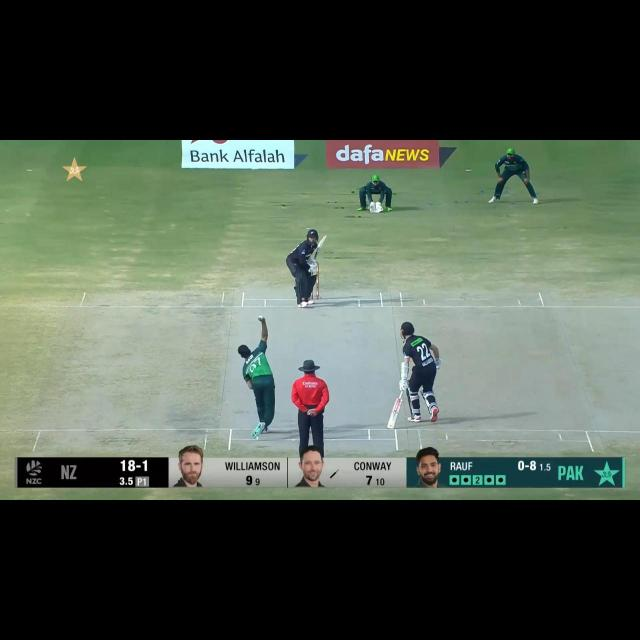bat: (388, 396, 402, 430), (313, 235, 327, 262)
toe: (387, 421, 395, 430), (321, 234, 327, 242)
